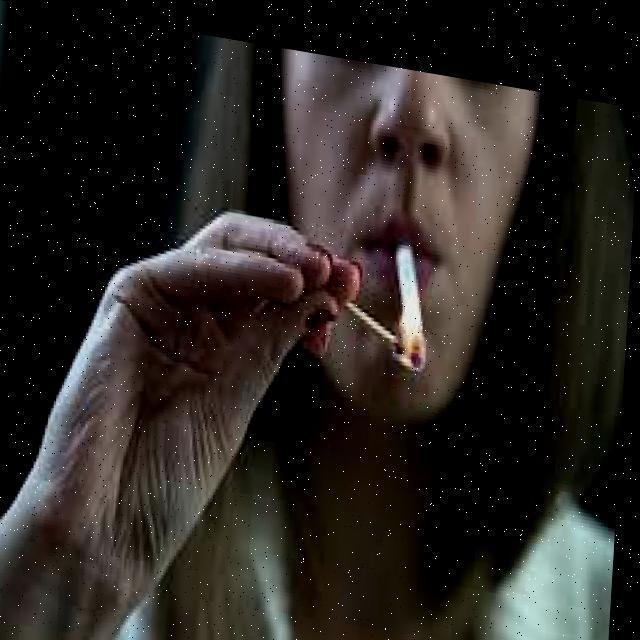Fire: (381, 294, 433, 368)
